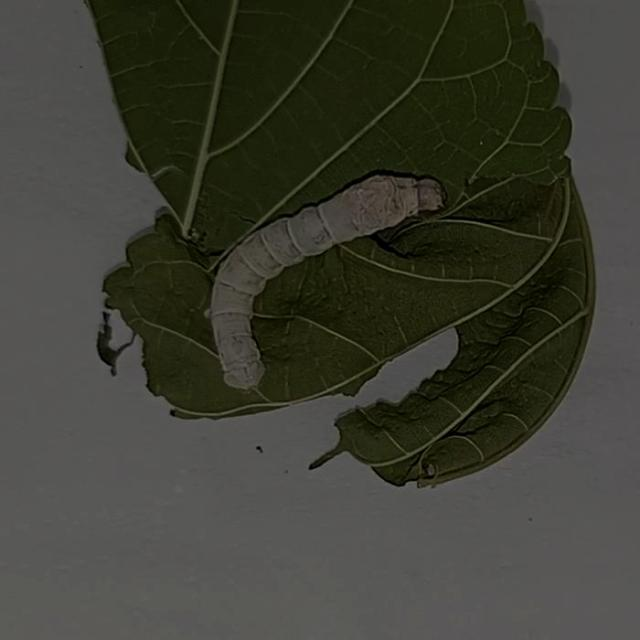Healthy: (189, 156, 482, 426)
